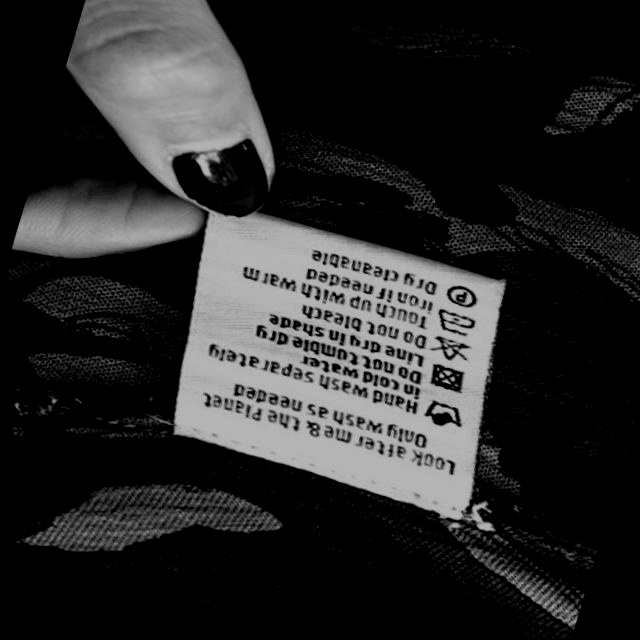DN_bleach: (430, 333, 466, 363)
DN_tumble_dry: (430, 360, 465, 391)
dry_clean_any_solvent_except_trichloroethylene: (442, 281, 477, 306)
hand_wash: (423, 398, 464, 429)
iron_low: (433, 308, 475, 340)
